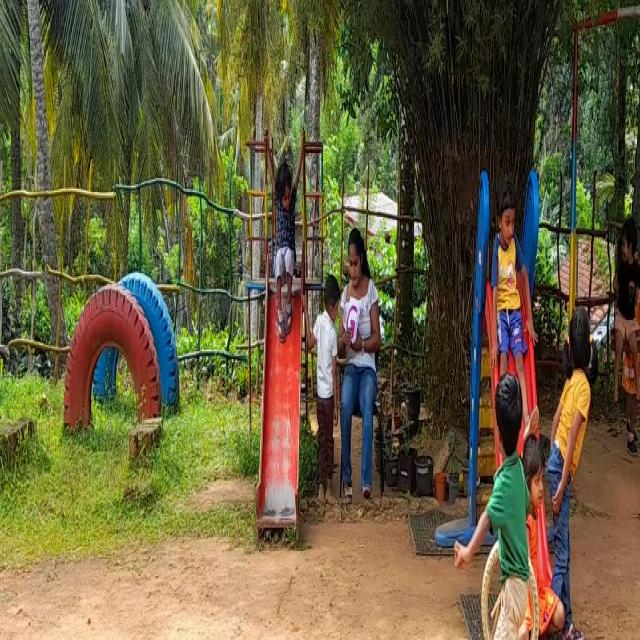child: (482, 378, 535, 640), (557, 303, 597, 640), (491, 189, 534, 396), (305, 265, 341, 509), (605, 203, 640, 401), (266, 143, 300, 344)
